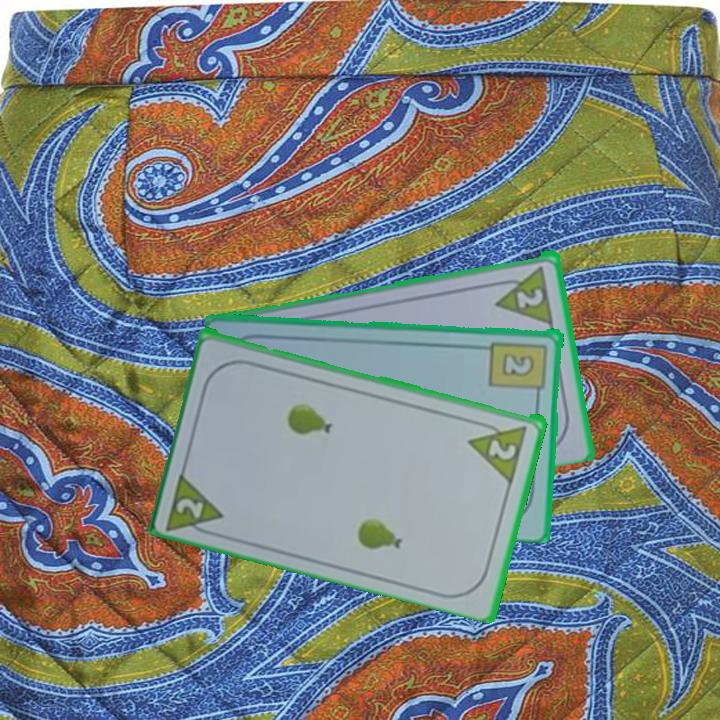2b: (487, 337, 550, 401)
2p: (163, 466, 228, 540), (489, 261, 556, 325), (485, 433, 520, 463)
